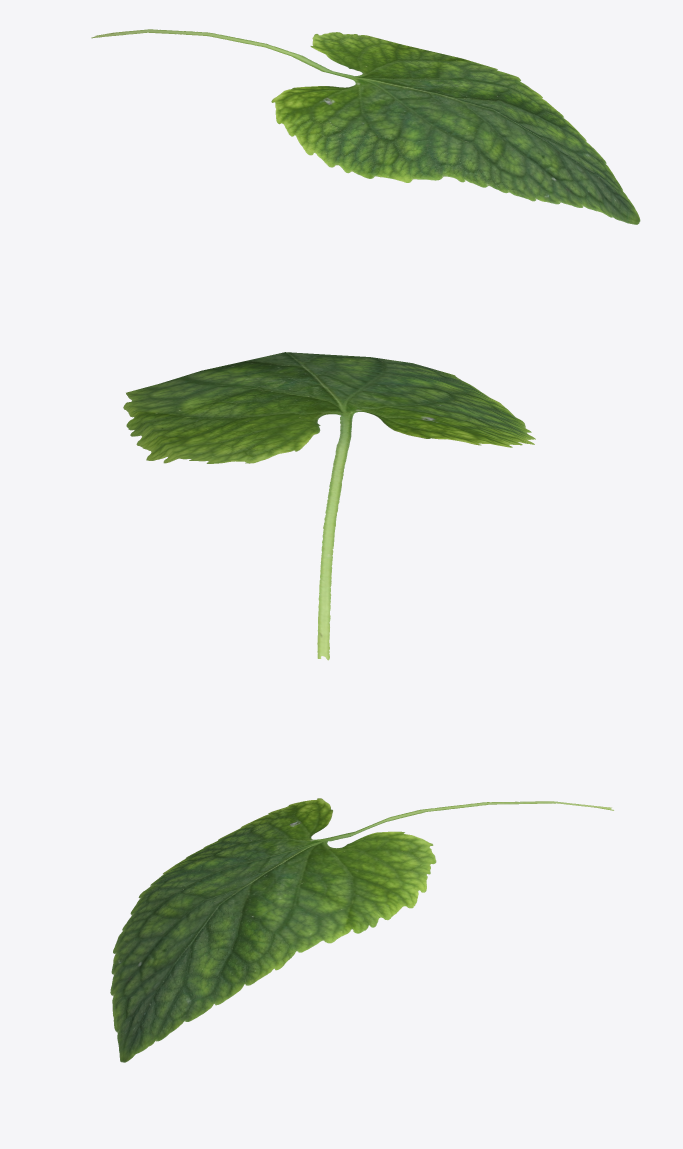
The model's file is leaf.fbx.
3 renders of one model, top to bottom at view 1: azimuth 30°, elevation 25°; view 2: azimuth 150°, elevation 25°; view 3: azimuth 270°, elevation 25°, orthographic. The views are drawn at different scales.
Visible parts, largest first — view 1: pPlane19; view 2: pPlane19; view 3: pPlane19.
Boxes of the visible parts, bbox=[...] form: pPlane19: bbox=[91, 29, 640, 224]; pPlane19: bbox=[123, 352, 535, 660]; pPlane19: bbox=[110, 798, 613, 1062].
Size of the model in its own units: 39.98 by 11.87 by 39.93.
